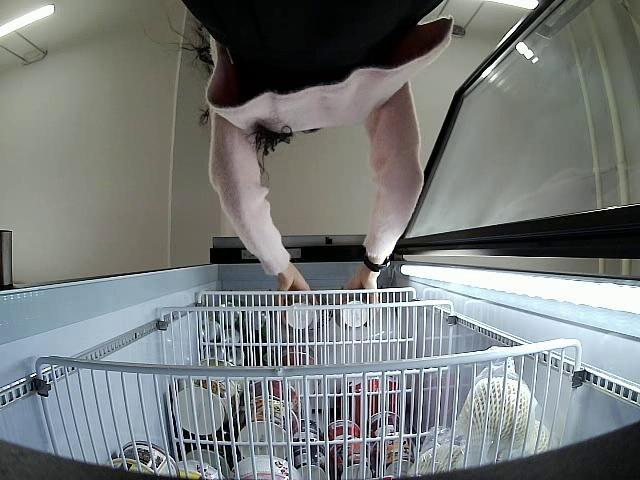04_chapagetti_S: (286, 296, 316, 328), (336, 300, 369, 328)
